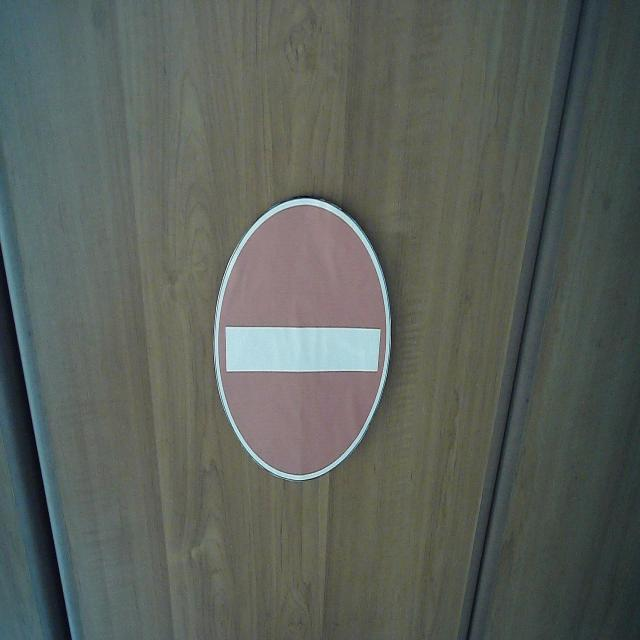no_entry: (212, 196, 394, 483)
